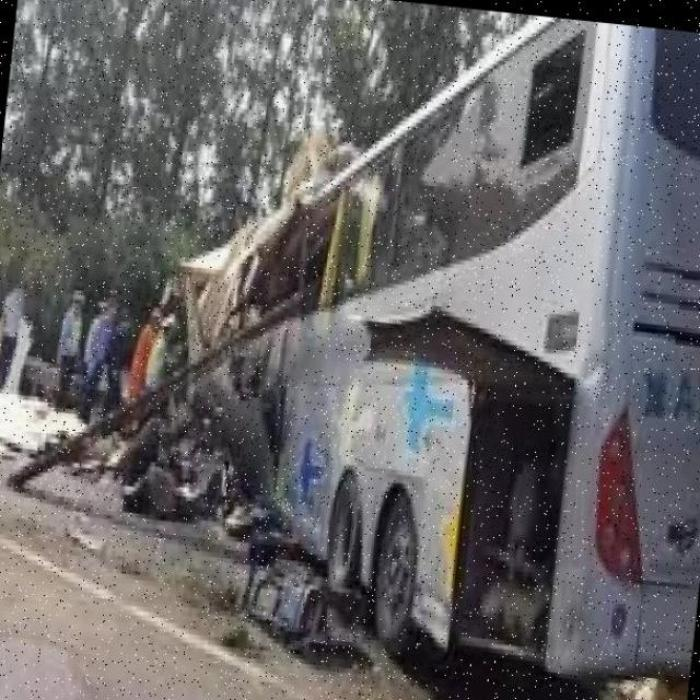Accident: (120, 109, 700, 700)
